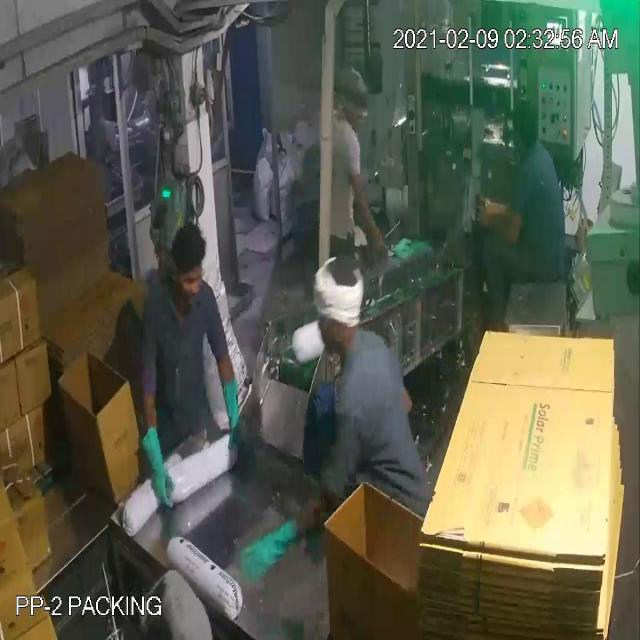Gloves: (42, 73, 500, 558)
